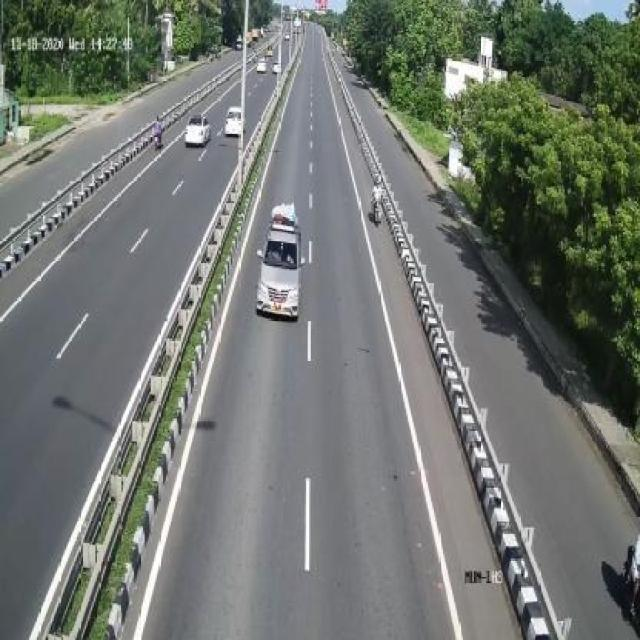car: (257, 203, 305, 322), (188, 108, 212, 155), (223, 102, 245, 144)
